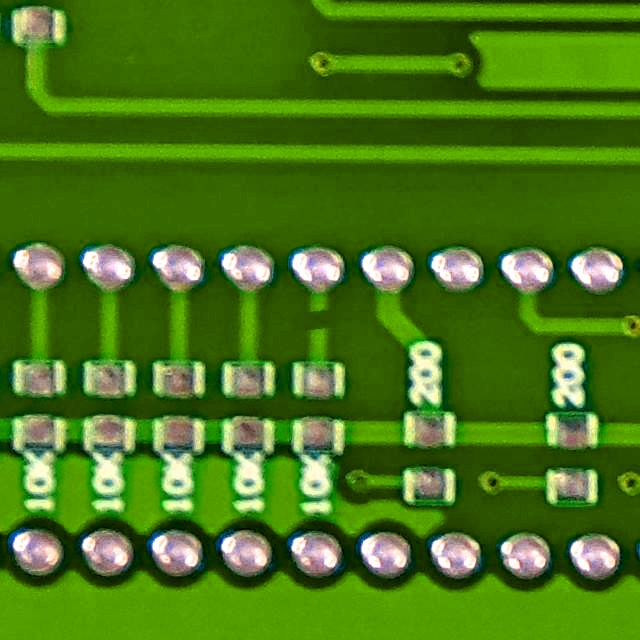open_circuit: (300, 302, 341, 338)
